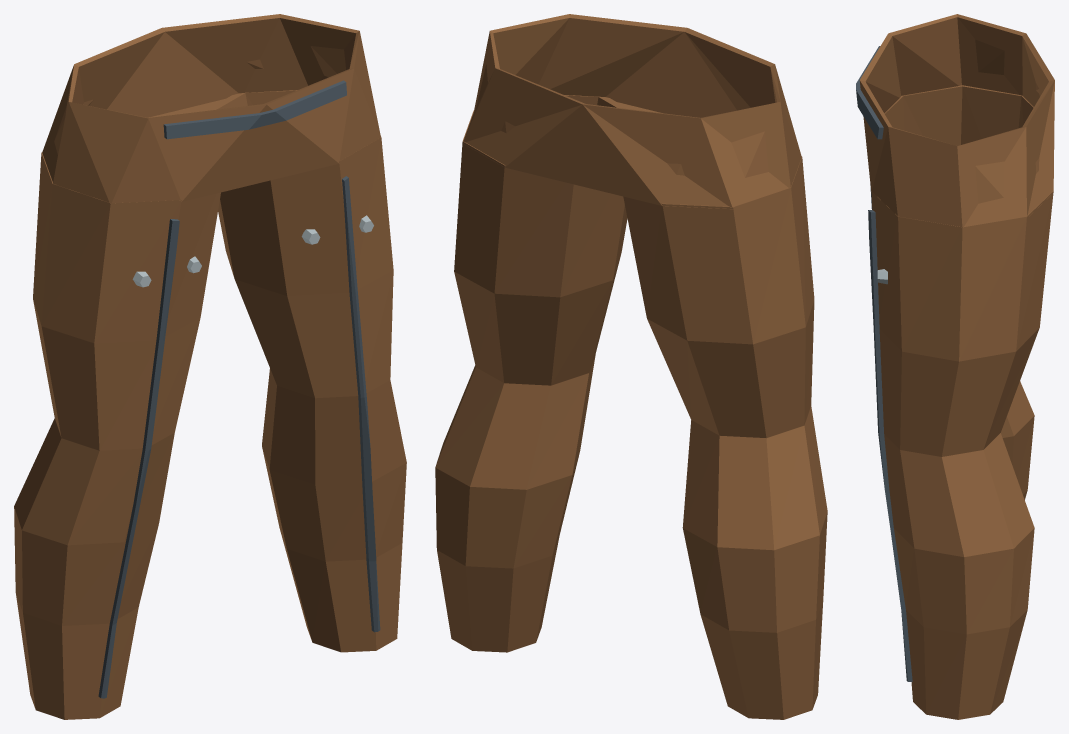
The model's file is studded_legs-male.glb.
3 renders of one model, left to right at view 1: azimuth 30°, elevation 25°; view 2: azimuth 150°, elevation 25°; view 3: azimuth 270°, elevation 25°, orthographic. The views are drawn at different scales.
Visible parts, largest first — view 1: studded trouser leg -1, studded trouser leg 1, studded trouser pelvis yoke, Trouser reinforced front seam 1, Trouser reinforced front seam -1, Trouser waist facing; view 2: studded trouser leg -1, studded trouser leg 1, studded trouser pelvis yoke; view 3: studded trouser leg 1, studded trouser pelvis yoke, studded trouser leg -1, Trouser reinforced front seam 1, Trouser waist facing.
Part boxes in pixels (x1=…): studded trouser leg -1: x1=14, y1=152, x2=220, y2=719; studded trouser leg 1: x1=204, y1=90, x2=406, y2=652; studded trouser pelvis yoke: x1=42, y1=14, x2=380, y2=203; Trouser reinforced front seam 1: x1=342, y1=176, x2=380, y2=632; Trouser reinforced front seam -1: x1=98, y1=219, x2=179, y2=698; Trouser waist facing: x1=163, y1=80, x2=346, y2=139; studded trouser leg -1: x1=623, y1=156, x2=827, y2=719; studded trouser leg 1: x1=435, y1=95, x2=627, y2=652; studded trouser pelvis yoke: x1=463, y1=14, x2=801, y2=209; studded trouser leg 1: x1=871, y1=191, x2=1053, y2=719; studded trouser pelvis yoke: x1=859, y1=14, x2=1054, y2=227; studded trouser leg -1: x1=884, y1=85, x2=1034, y2=499; Trouser reinforced front seam 1: x1=868, y1=210, x2=912, y2=681; Trouser waist facing: x1=856, y1=46, x2=883, y2=139.
Size of the model in its own units: 2.35 by 3.57 by 1.15.
